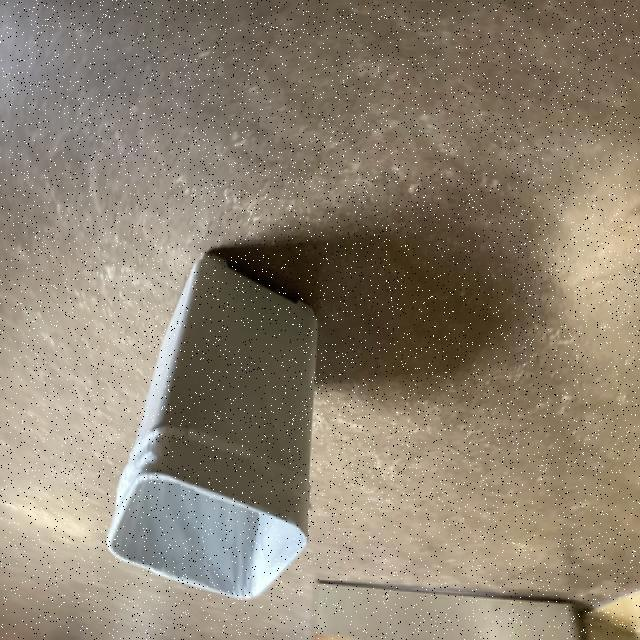garbage container: (97, 224, 361, 610)
